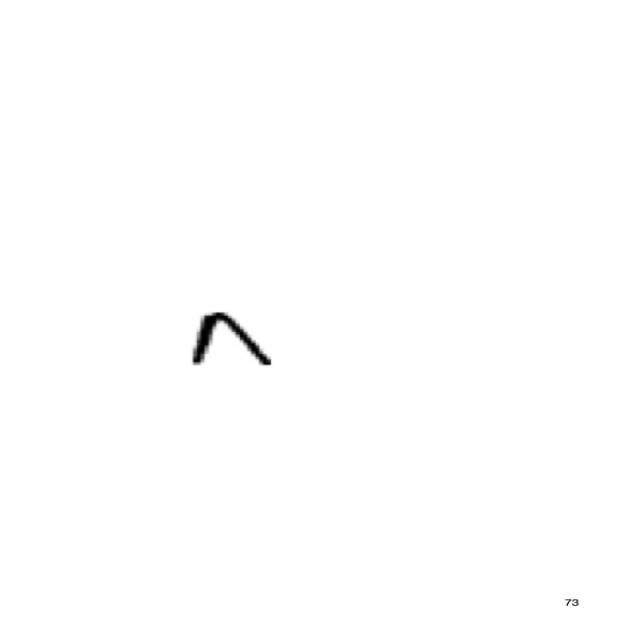8 -eight-: (175, 303, 289, 380)
